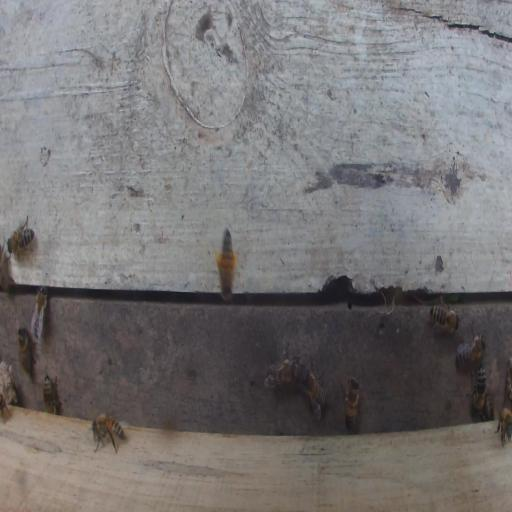nonpollenbee: (91, 410, 129, 456), (263, 342, 299, 390), (301, 360, 326, 421), (7, 215, 35, 263), (428, 294, 461, 334), (467, 361, 486, 419), (455, 333, 486, 368), (30, 285, 48, 342), (18, 326, 36, 378), (344, 375, 360, 432), (42, 374, 63, 414), (495, 406, 512, 446), (481, 389, 495, 422)
pollenbee: (216, 225, 239, 301)
